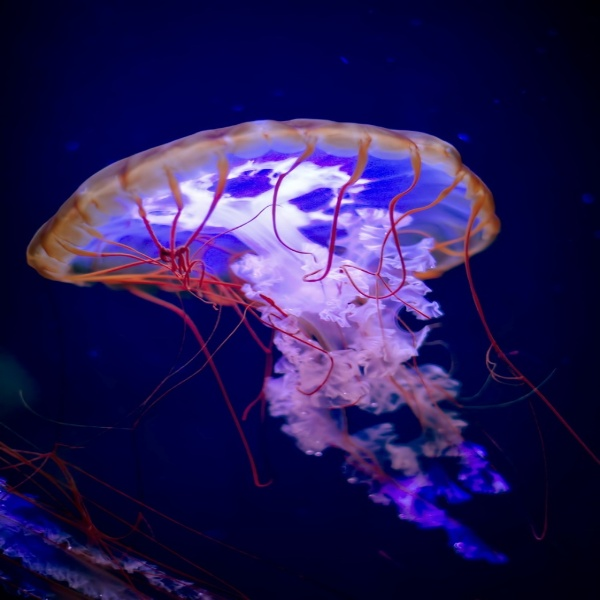Jellyfish: (20, 117, 600, 600), (0, 440, 251, 600)
